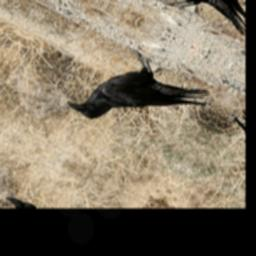Crow: (63, 37, 217, 159)
